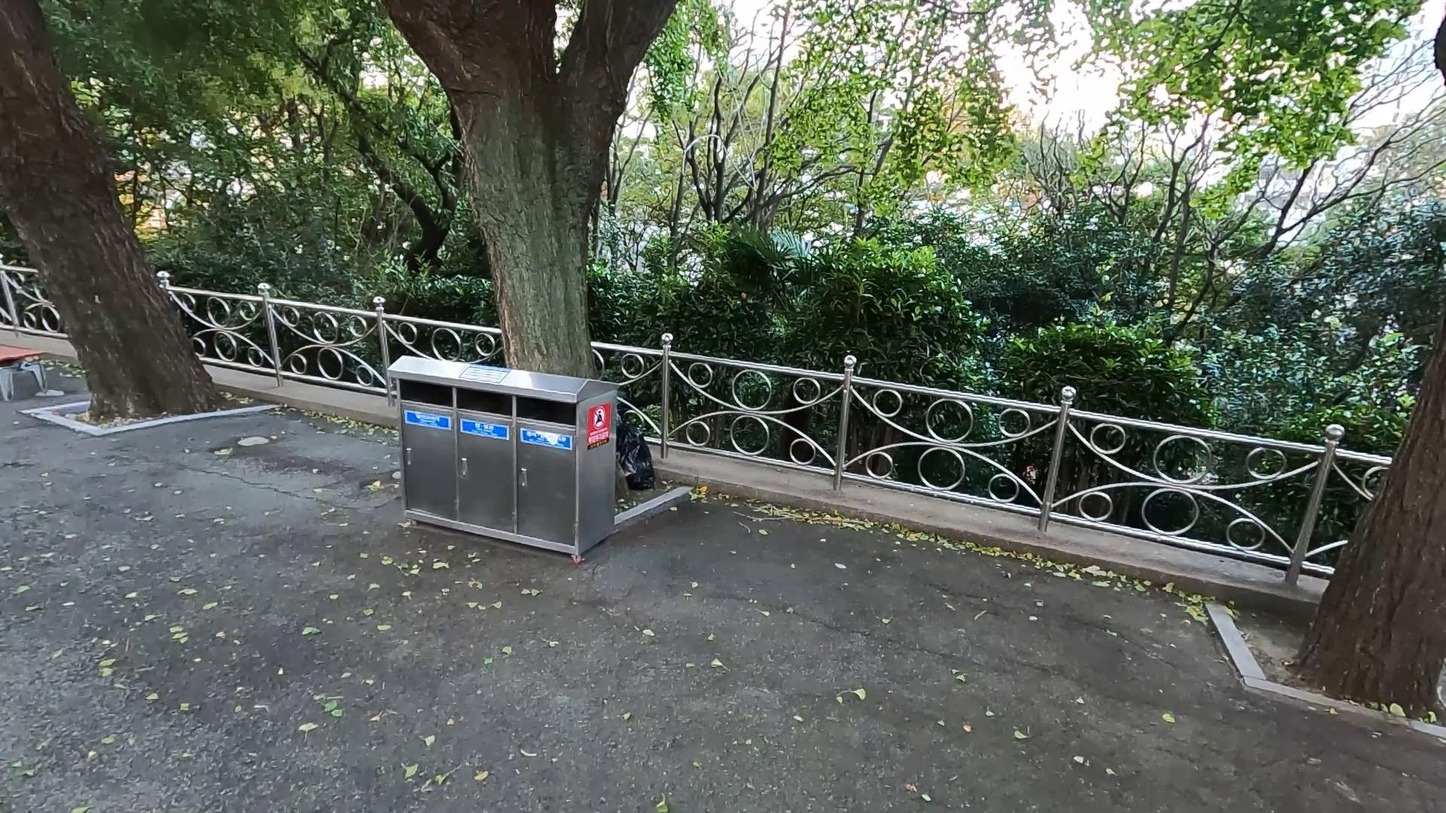trash: (617, 415, 662, 498)
